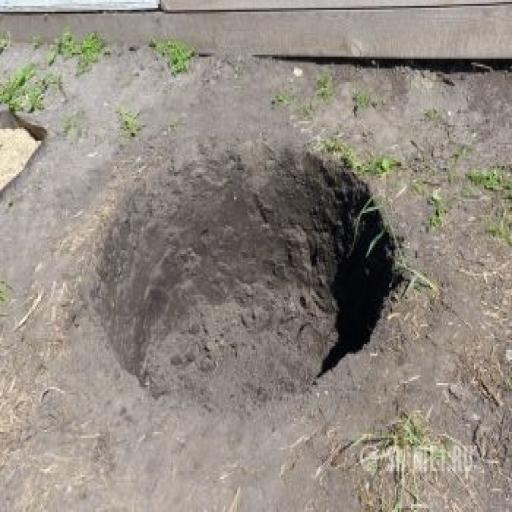entrance: (96, 143, 397, 408)
